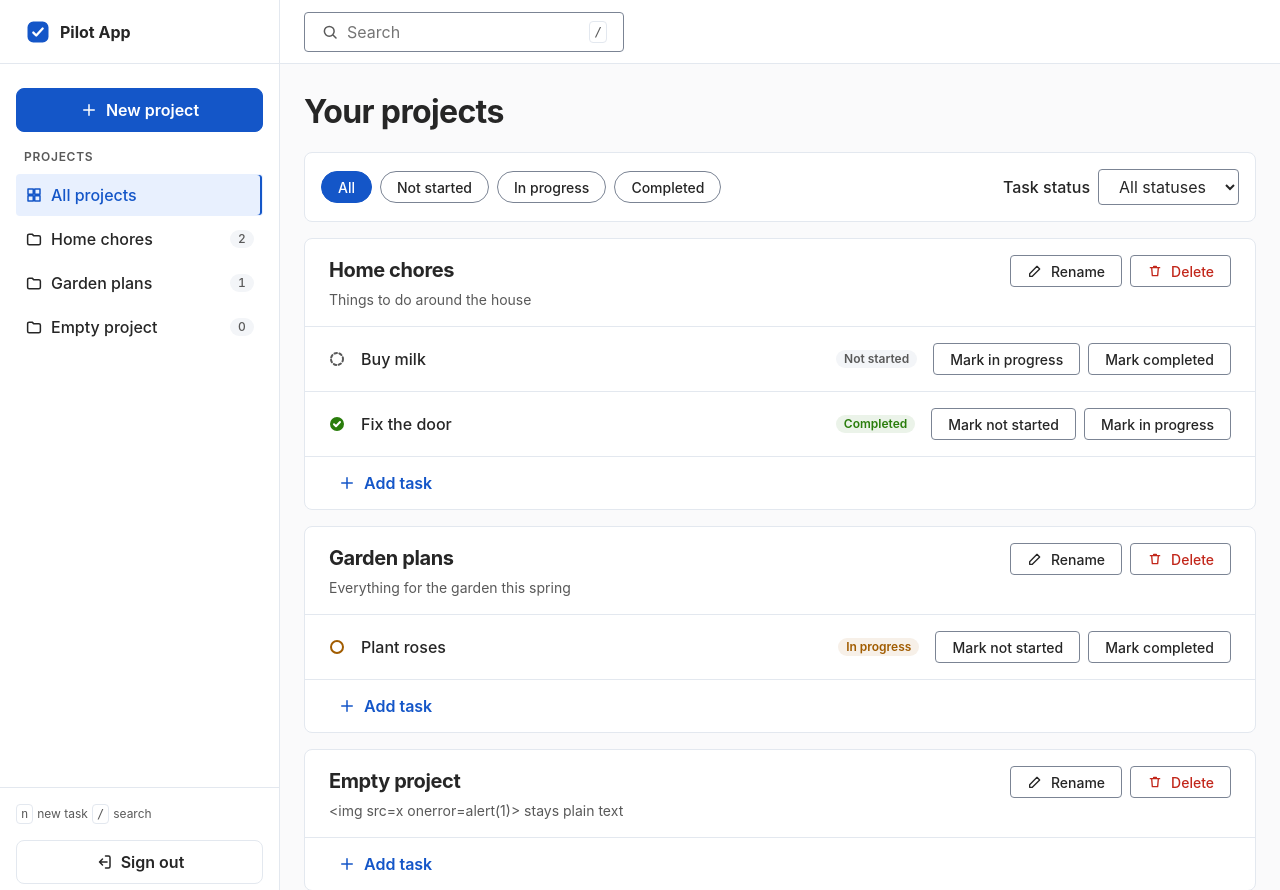
Test: Dashboard › a length refusal from the server keeps the old name and shows the allowed length
The width and height of the screenshot is (1280, 890).
Click the button with aria-label "Rename Home chores".
click(1066, 271)  # box [1010,255,1122,287]
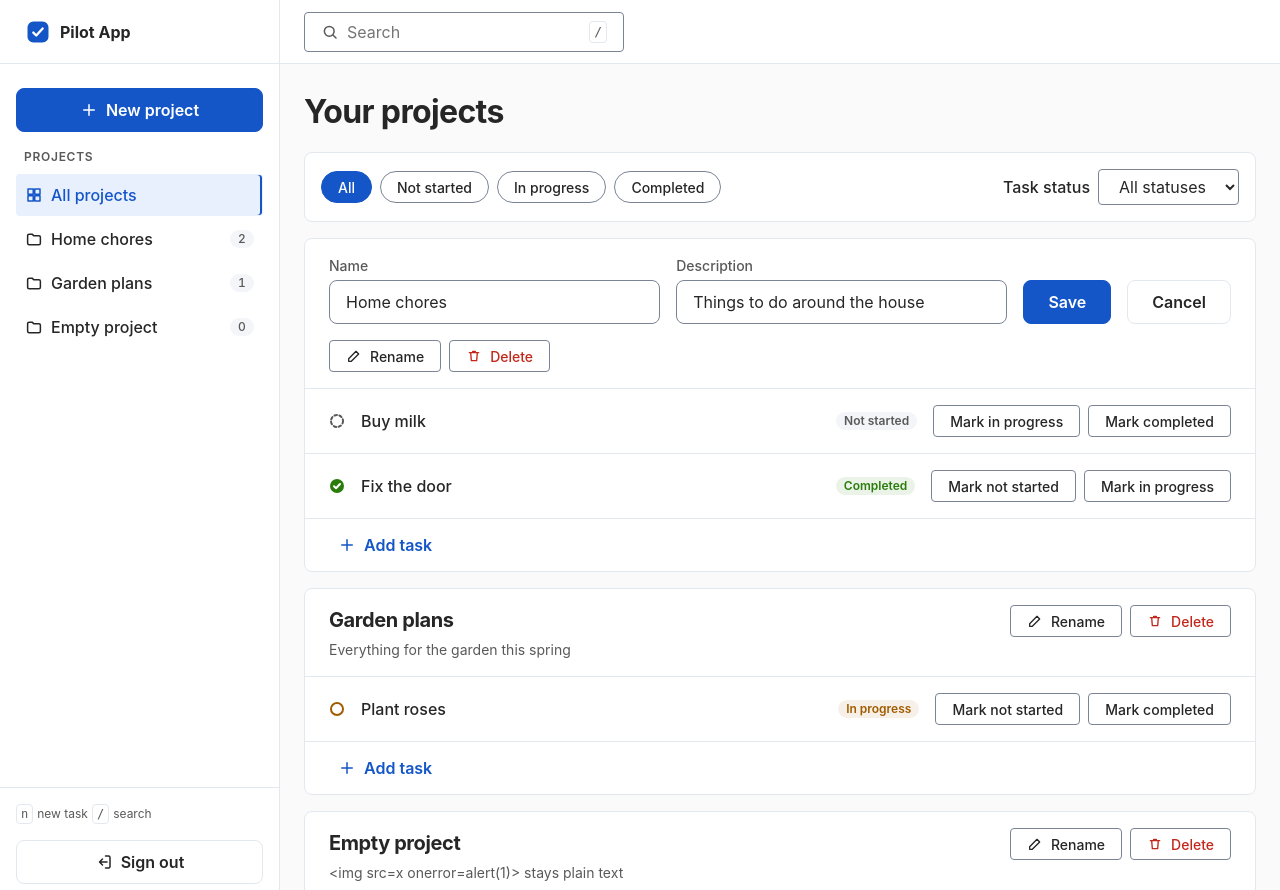
Replace the text in the field labelled "Name" with "House chores" at (495,302), box [329,280,660,324]
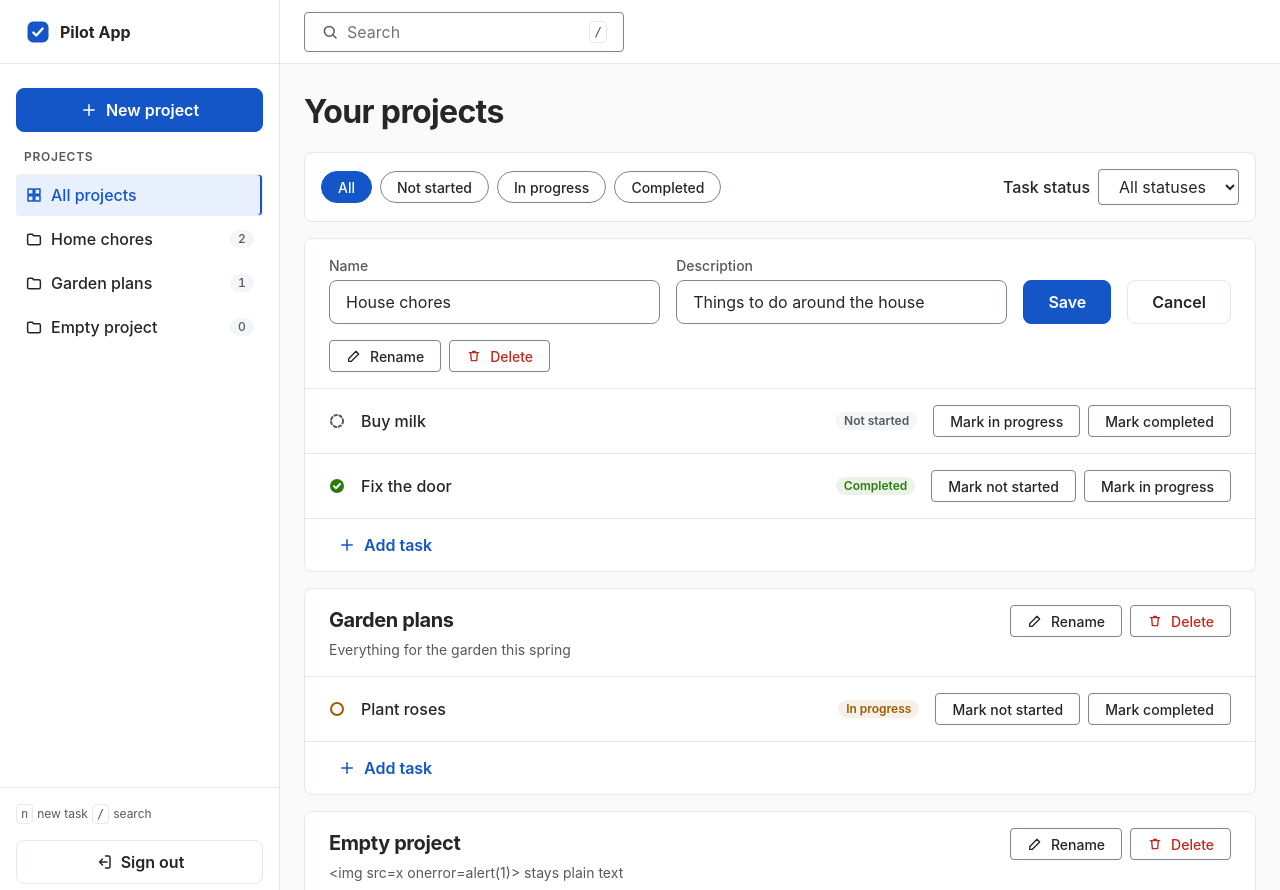
Click the button "Save".
click(1067, 302)  # box [1023,280,1111,324]
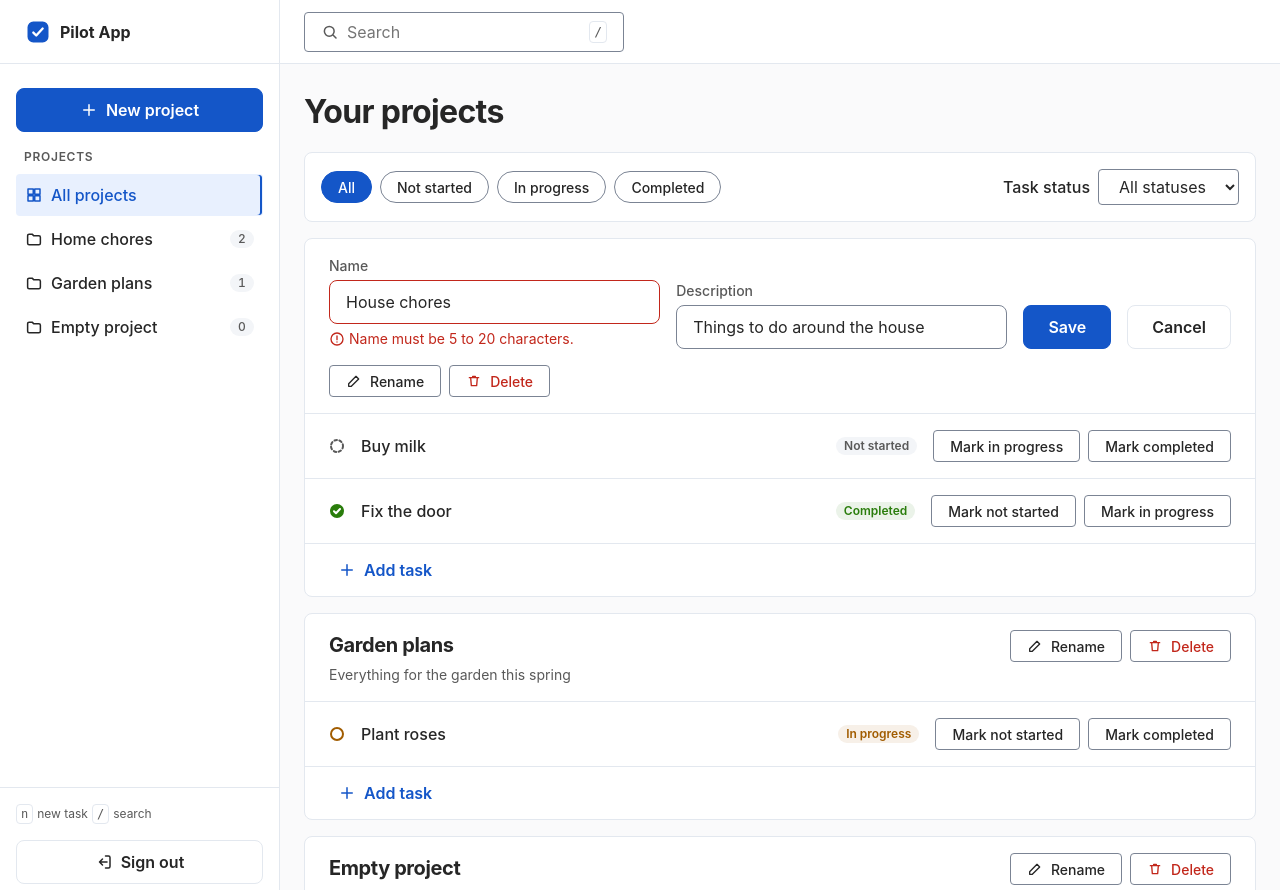
expect the text "Name must be 5 to 20 characters." is shown: met, box [329,330,574,347]
Click the button "Cancel".
click(1179, 327)  # box [1127,305,1231,349]
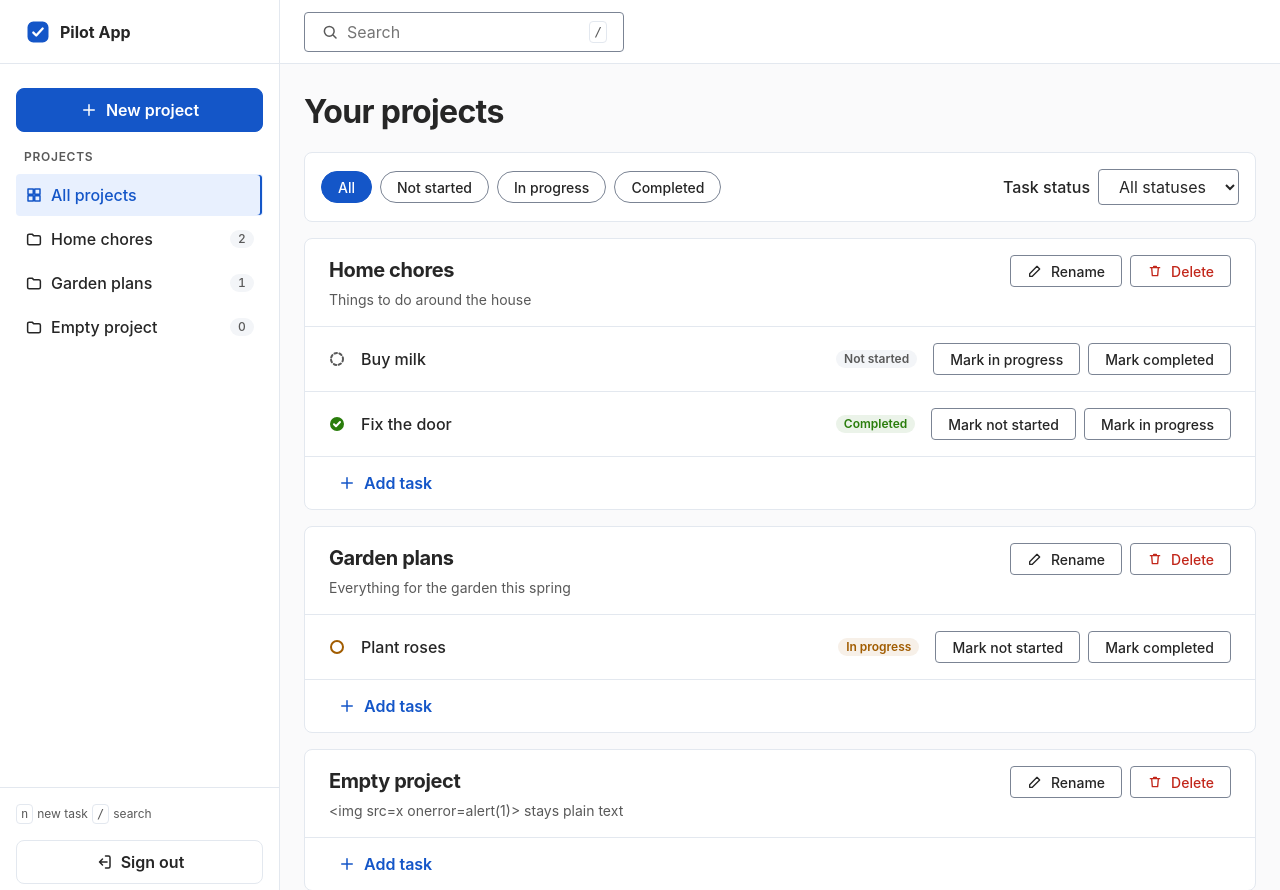
expect the heading "House chores" is not shown: met
expect the heading "Home chores" is shown: met, box [329,258,454,282]
